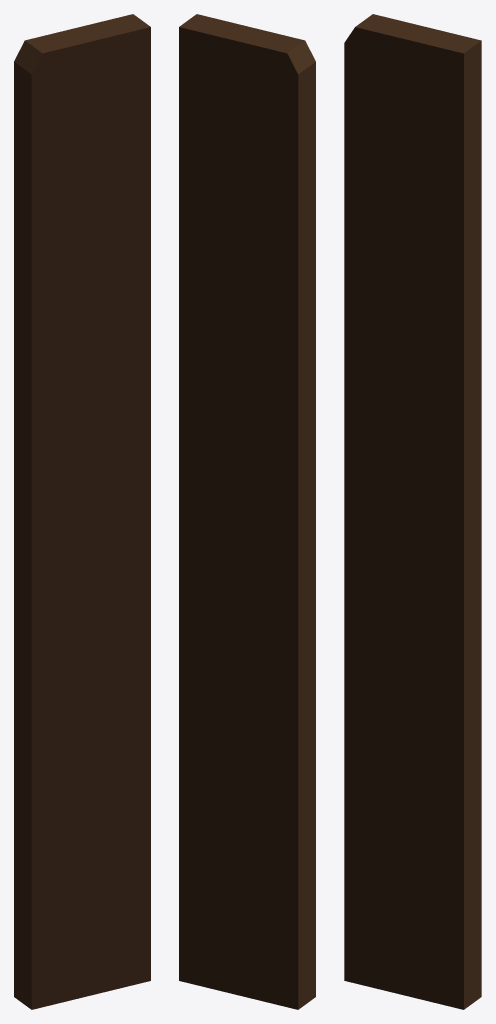
File: Cave_Lair_Wooden_Timber_Plank_03.fbx
The picture shows the model from 3 angles, left to right: view 1: azimuth 30°, elevation 25°; view 2: azimuth 150°, elevation 25°; view 3: azimuth 330°, elevation 25°; orthographic projection.
Visible parts, largest first — view 1: Cave_Lair_Wooden_Timber_Plank_03; view 2: Cave_Lair_Wooden_Timber_Plank_03; view 3: Cave_Lair_Wooden_Timber_Plank_03.
Part boxes in pixels (bbox=[...]): Cave_Lair_Wooden_Timber_Plank_03: bbox=[14, 14, 150, 1009]; Cave_Lair_Wooden_Timber_Plank_03: bbox=[179, 14, 315, 1009]; Cave_Lair_Wooden_Timber_Plank_03: bbox=[344, 14, 481, 1009].
Bounding box in the file's own units: 0.1815 × 1.39 × 0.0468.
